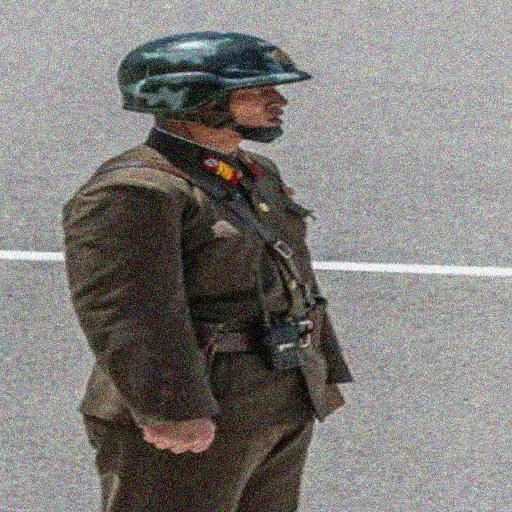north army: (69, 34, 361, 512)
